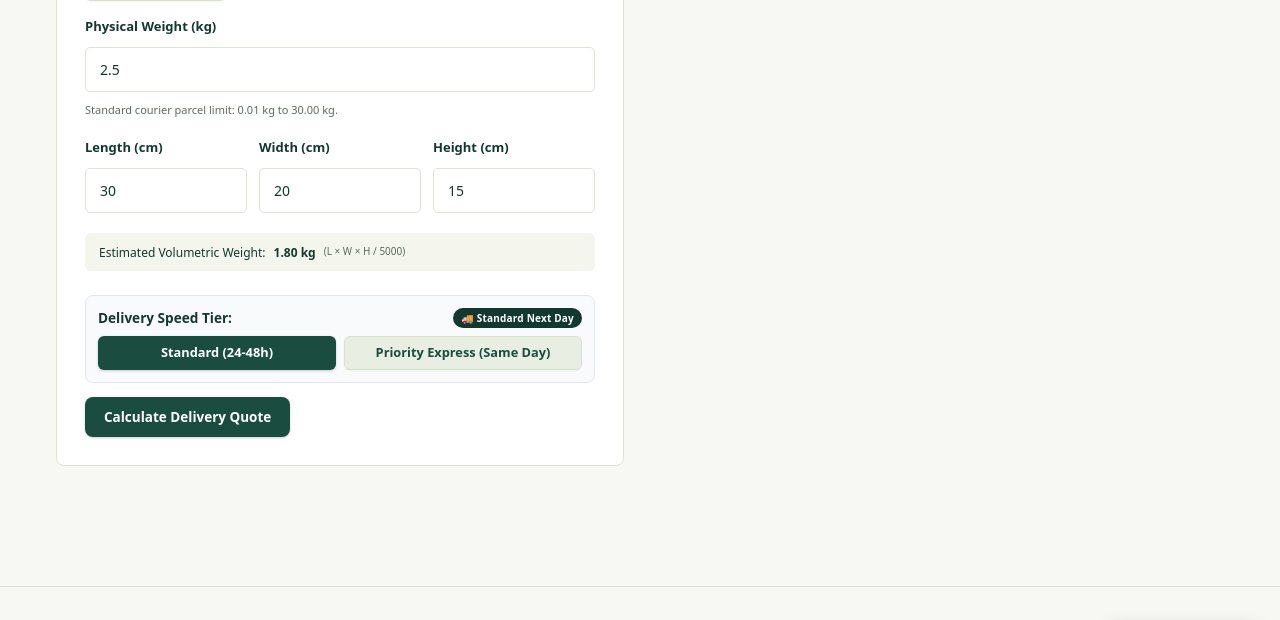
Test: CustomerQuotePage & Booking Workflow (Issue #118) › handles quote calculation API failure gracefully
(page scrolled)
Click the button "Calculate Delivery Quote" at (188, 417), box [85,397,290,437]
(page scrolled)
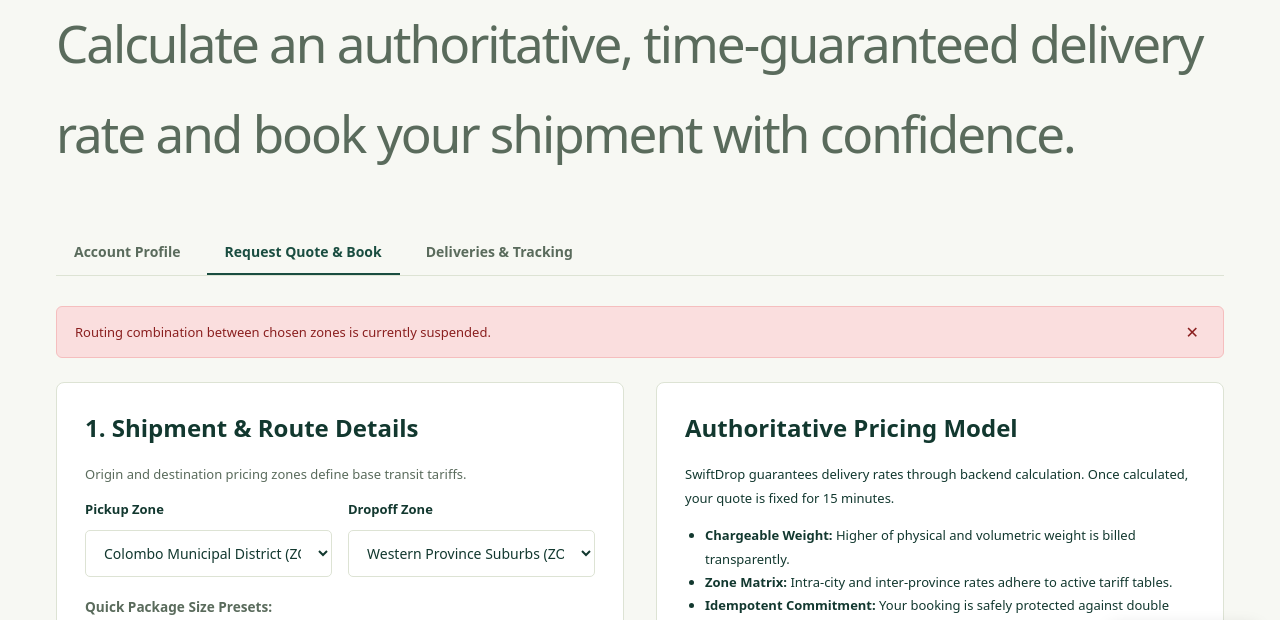
expect the text "Routing combination between chosen zones is currently suspended" is shown: met, box [75,322,491,340]
